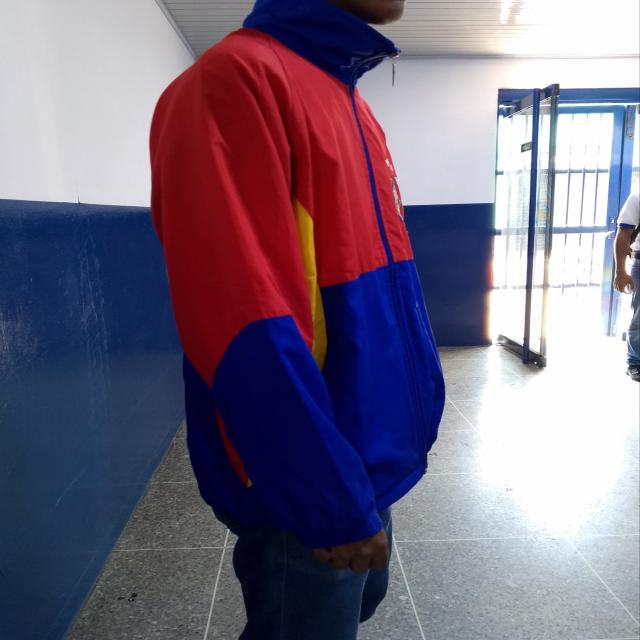chaqueta_unefa: (148, 0, 448, 548)
